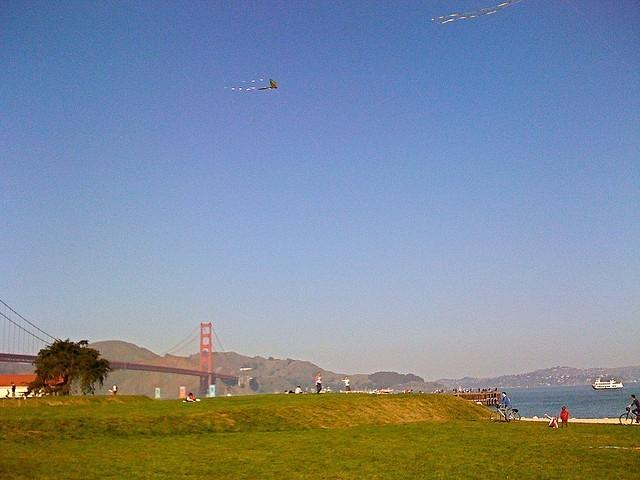bicycle: (489, 404, 520, 422), (620, 409, 640, 424)
